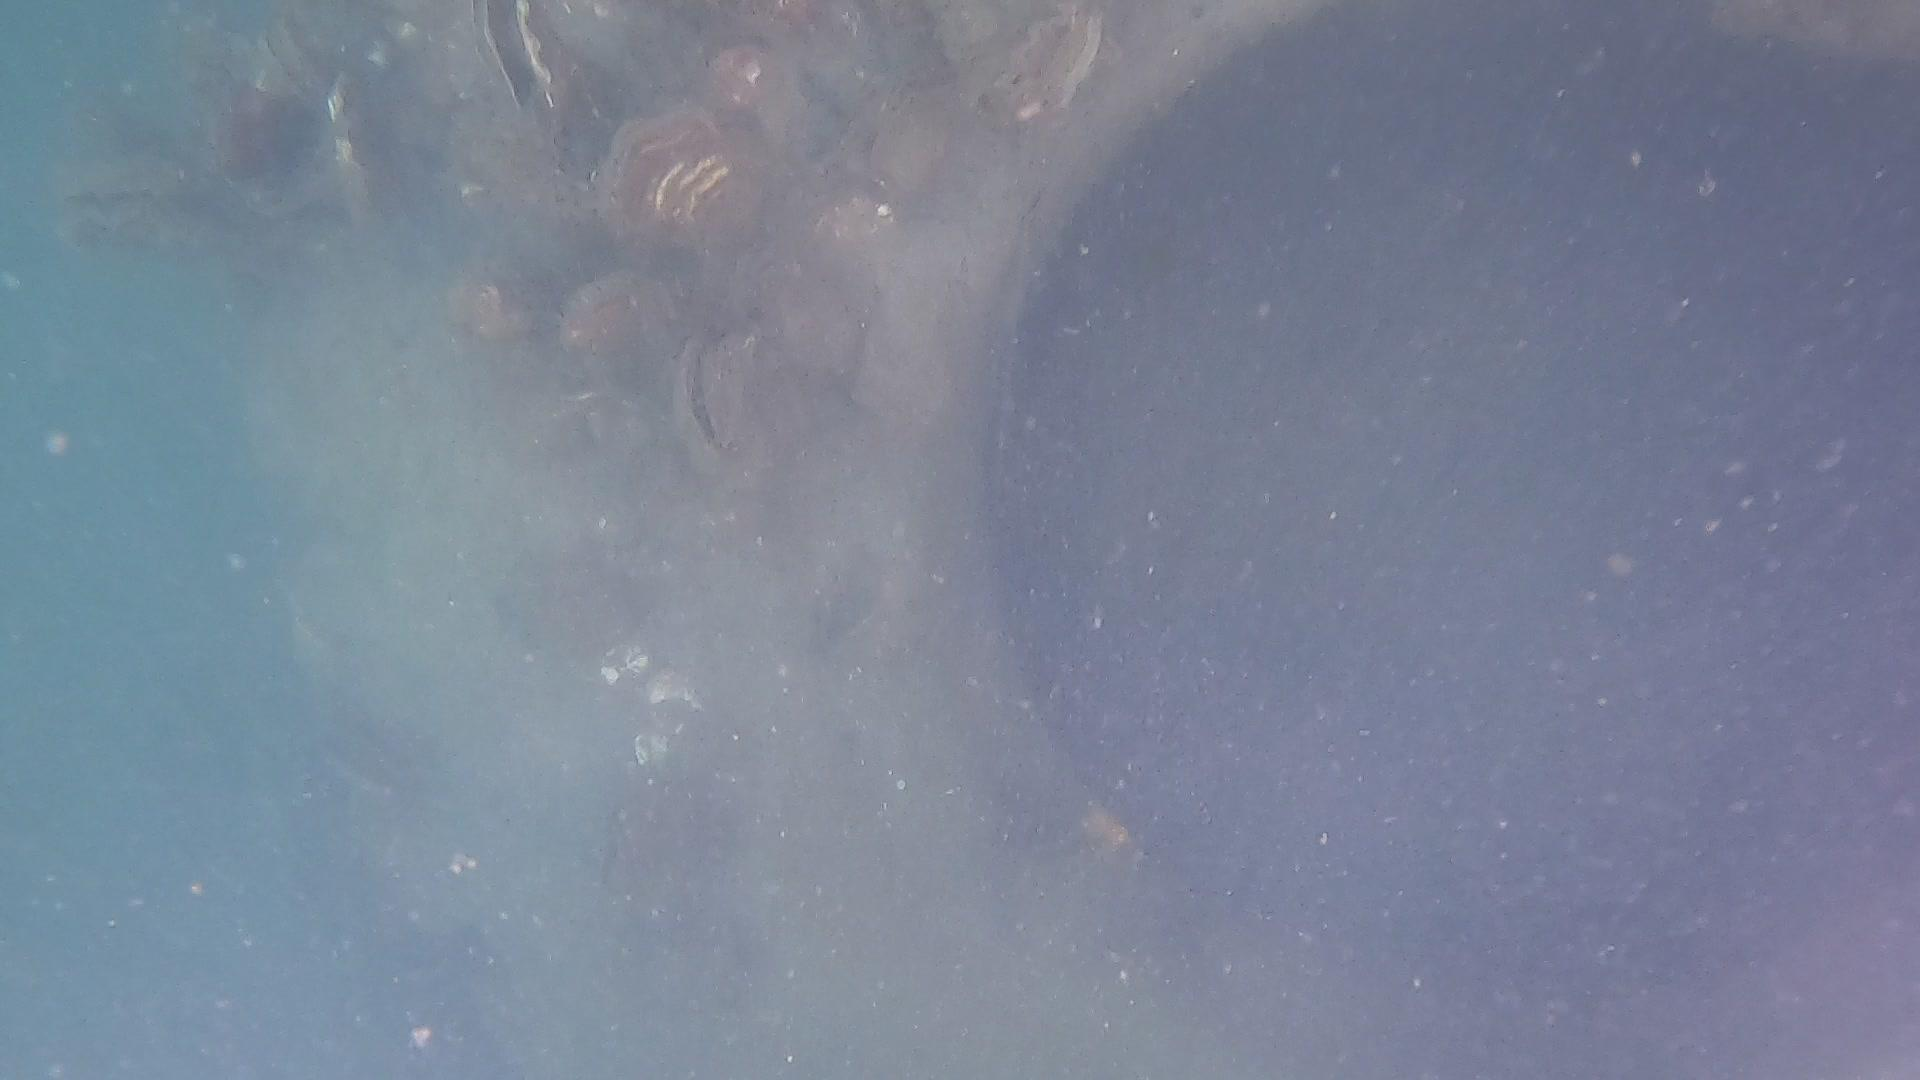tire: (237, 0, 1920, 1080)
